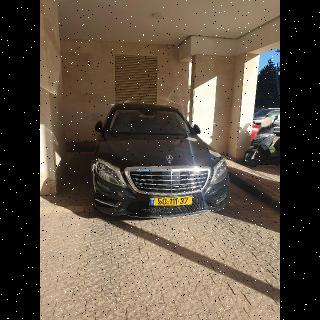LicensePlate: (155, 197, 192, 205)
